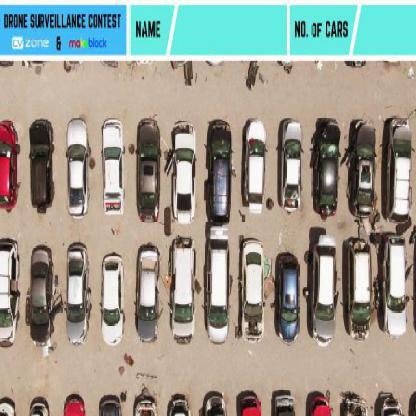car: (345, 117, 376, 224), (207, 232, 232, 351), (380, 237, 408, 340), (311, 232, 336, 346), (135, 120, 161, 226), (204, 120, 231, 222), (388, 117, 413, 227), (64, 241, 90, 345), (172, 123, 198, 225), (313, 118, 340, 216), (28, 244, 53, 349), (239, 238, 264, 341), (348, 239, 373, 341), (135, 243, 160, 342), (173, 241, 196, 345), (29, 120, 55, 209), (275, 252, 300, 343), (101, 119, 124, 217), (67, 119, 90, 217), (278, 120, 302, 213), (102, 255, 124, 346), (247, 119, 267, 212), (1, 237, 17, 348), (1, 122, 20, 211)
